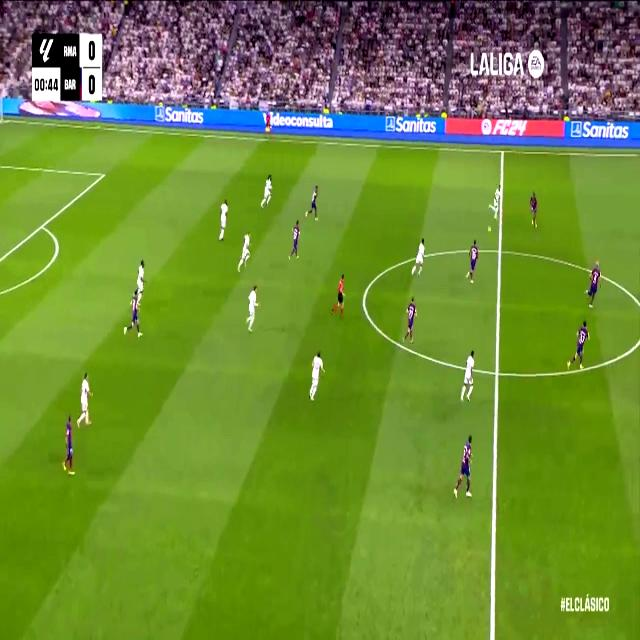bigarea_top_inner: (99, 166, 107, 182)
corner: (0, 113, 6, 125)
halfcircle_bottom: (491, 357, 503, 387)
halfcircle_top: (494, 238, 506, 263)
midline_top_intersection: (498, 144, 507, 160)
top_arc_area_intersection: (38, 216, 46, 234)
